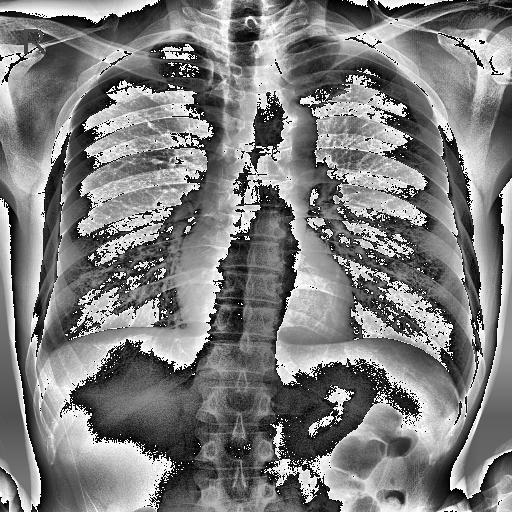10- Pleural effusion: (30, 346, 56, 374), (29, 344, 56, 370), (37, 345, 52, 367)
11- Pleural thickening: (30, 346, 56, 374), (29, 344, 56, 370), (37, 345, 52, 367)
